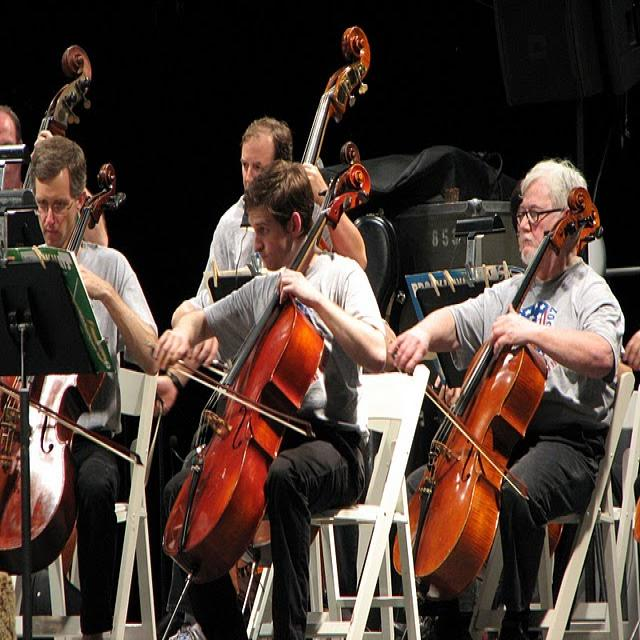cello: (157, 166, 375, 588), (392, 187, 601, 598), (0, 163, 127, 580)
